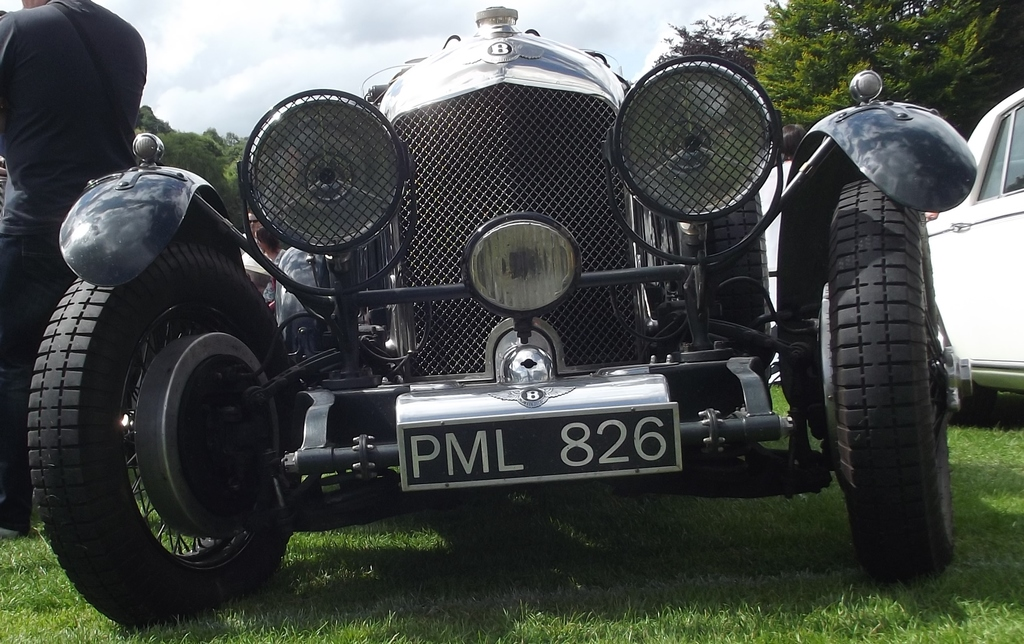Car: (15, 0, 981, 632), (918, 86, 1023, 425)
